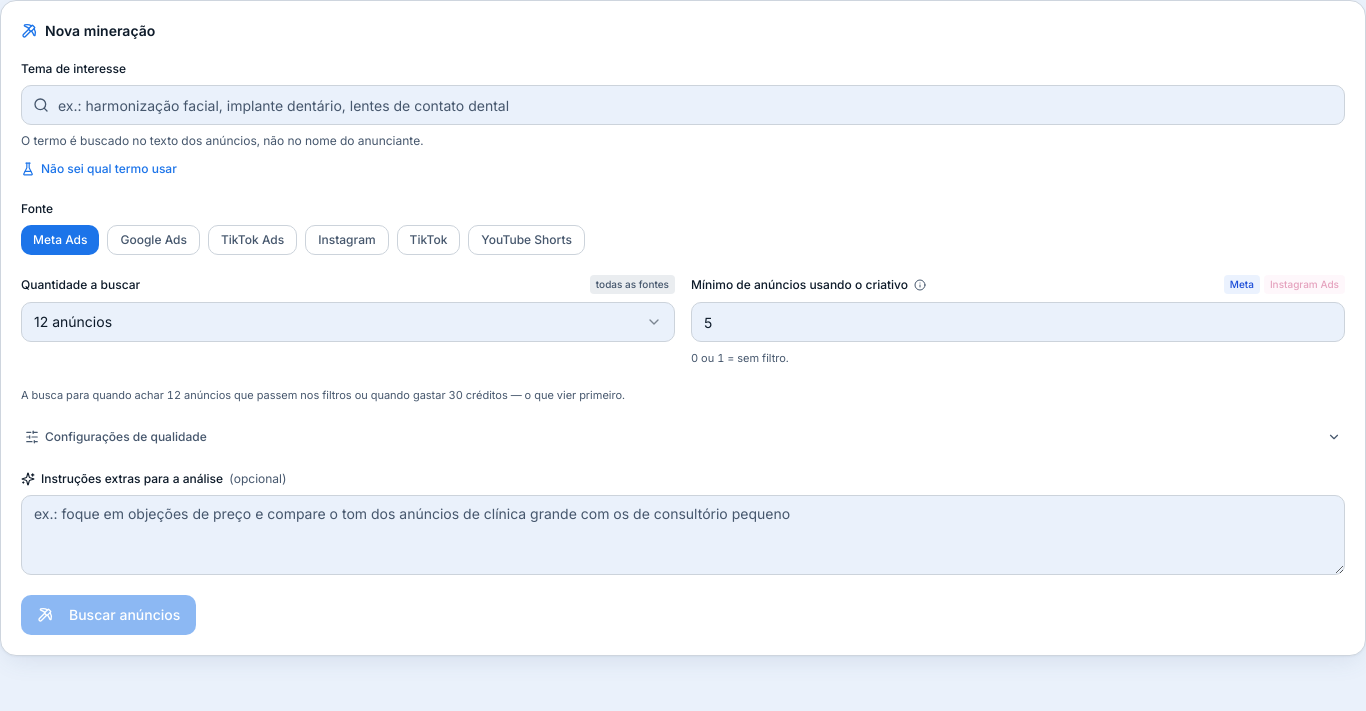
it: MineracaoForm › Instagram é só orgânico: não oferece mais o modo de anúncios
Click the radio button labelled "Instagram": (347, 240) [305,225,389,255]
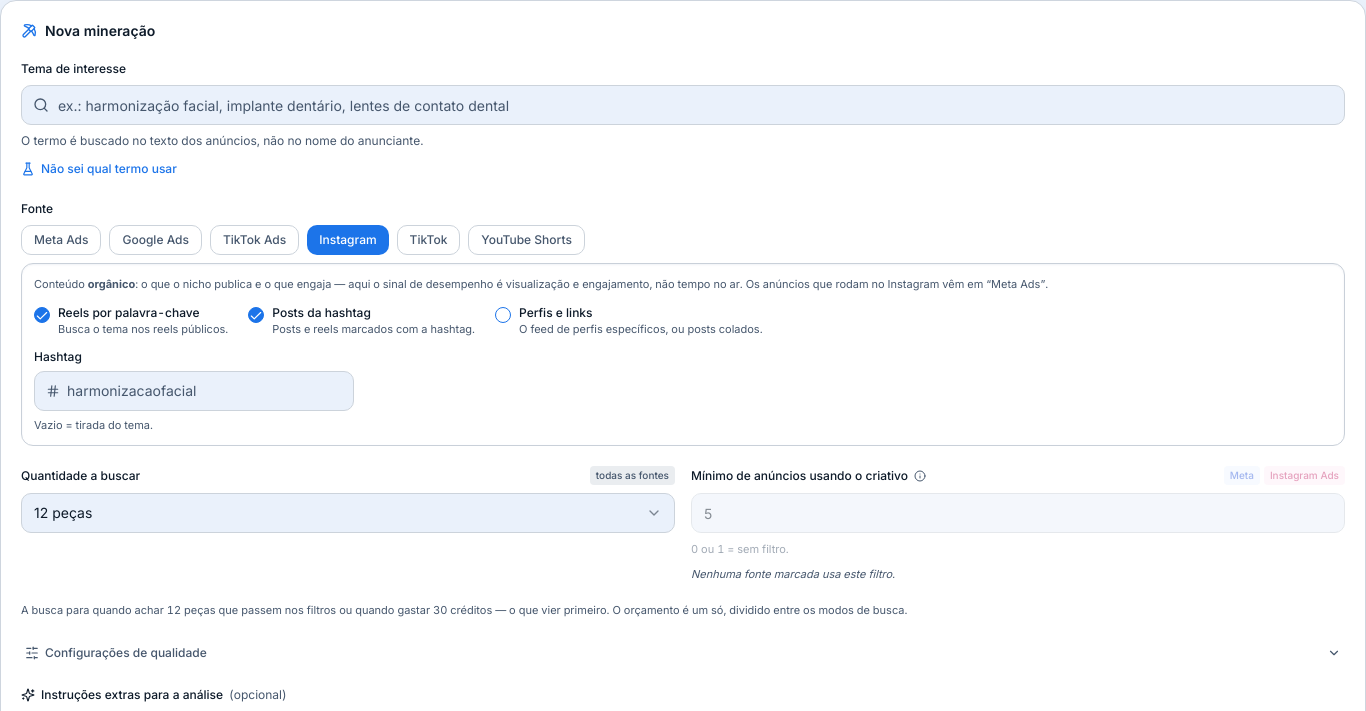
Now the checkbox named "reels por palavra-chave" next to "Reels por palavra-chave" is shown, box [34,306,50,322]
